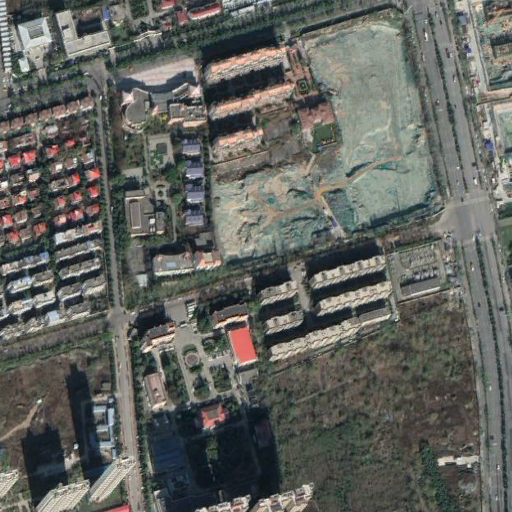cw: (208, 7, 436, 263)
